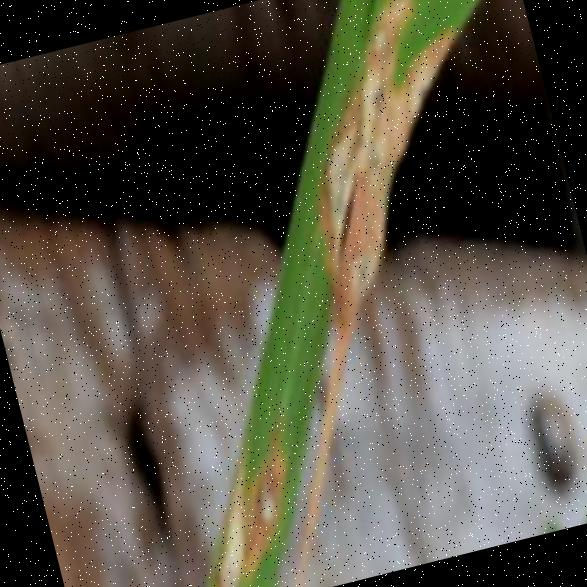Leaf_smut: (238, 0, 520, 323), (219, 441, 307, 543)
